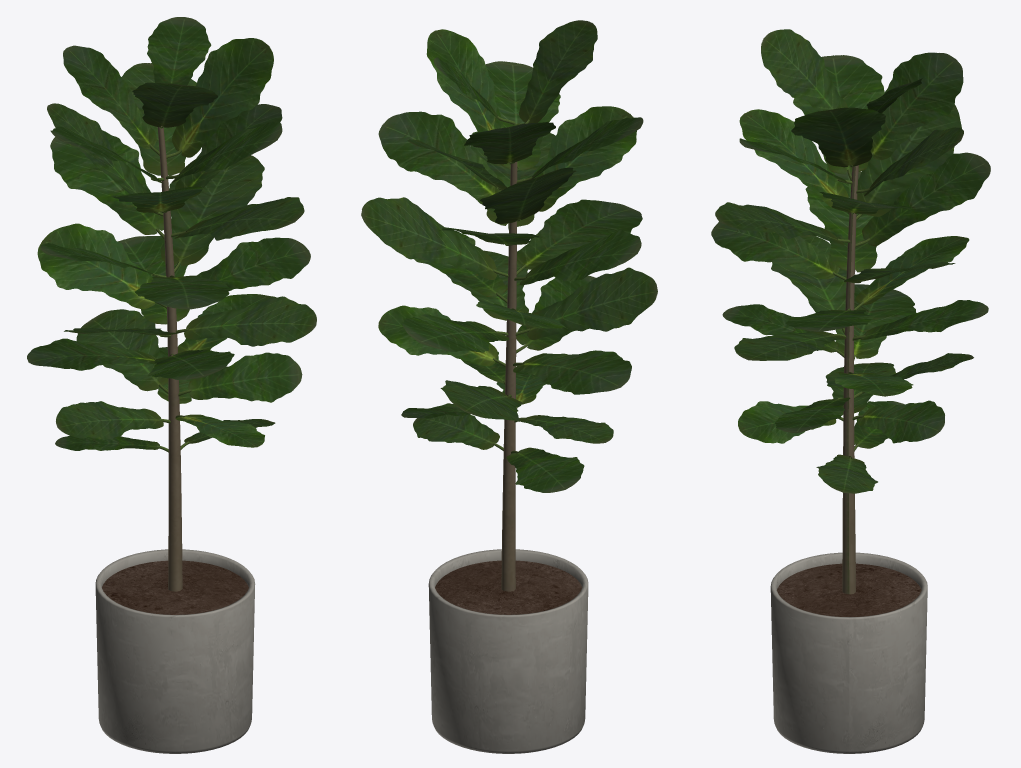
Rendered from ficus_lyrata_180.glb.
3 renders of one model, left to right at view 1: azimuth 30°, elevation 25°; view 2: azimuth 150°, elevation 25°; view 3: azimuth 270°, elevation 25°, orthographic.
Parts seen in each view (by area): view 1: ficus_lyrata_180; view 2: ficus_lyrata_180; view 3: ficus_lyrata_180.
Boxes of the visible parts, <box> form: ficus_lyrata_180: <box>27,17,316,753</box>; ficus_lyrata_180: <box>361,20,657,753</box>; ficus_lyrata_180: <box>711,29,990,753</box>.
Bounding box in the file's own units: 0.75 × 1.8 × 0.75.
3 materials, 3 textured.
